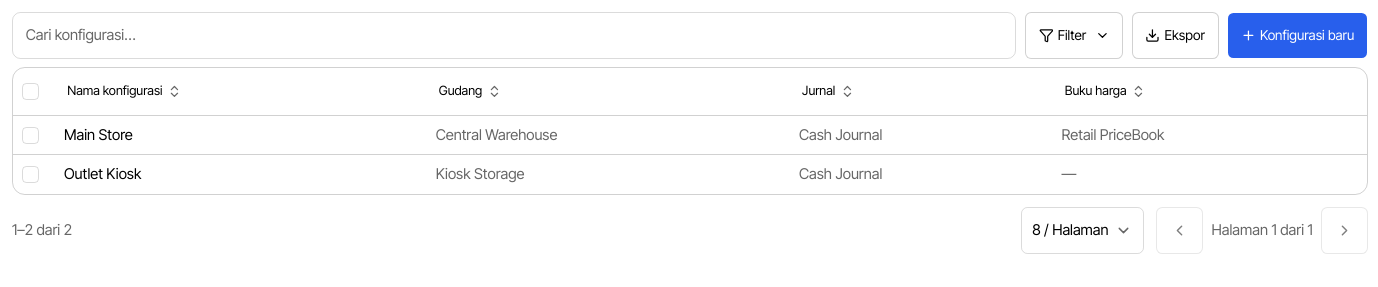
Test: PosConfigsSection › filters configs through the search box
Expected: the text "Main Store" is shown, [64,126,133,144]
Type "Kiosk" into the search field with placeholder "Cari konfigurasi…" at (514, 35), box [12,12,1016,59]
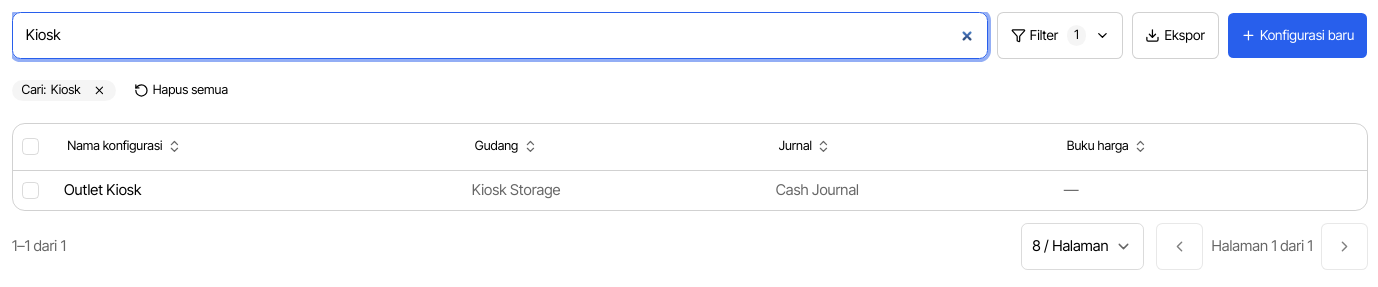
Expected: the text "Outlet Kiosk" is shown, [64,181,141,199]
Expected: the text "Main Store" is gone
